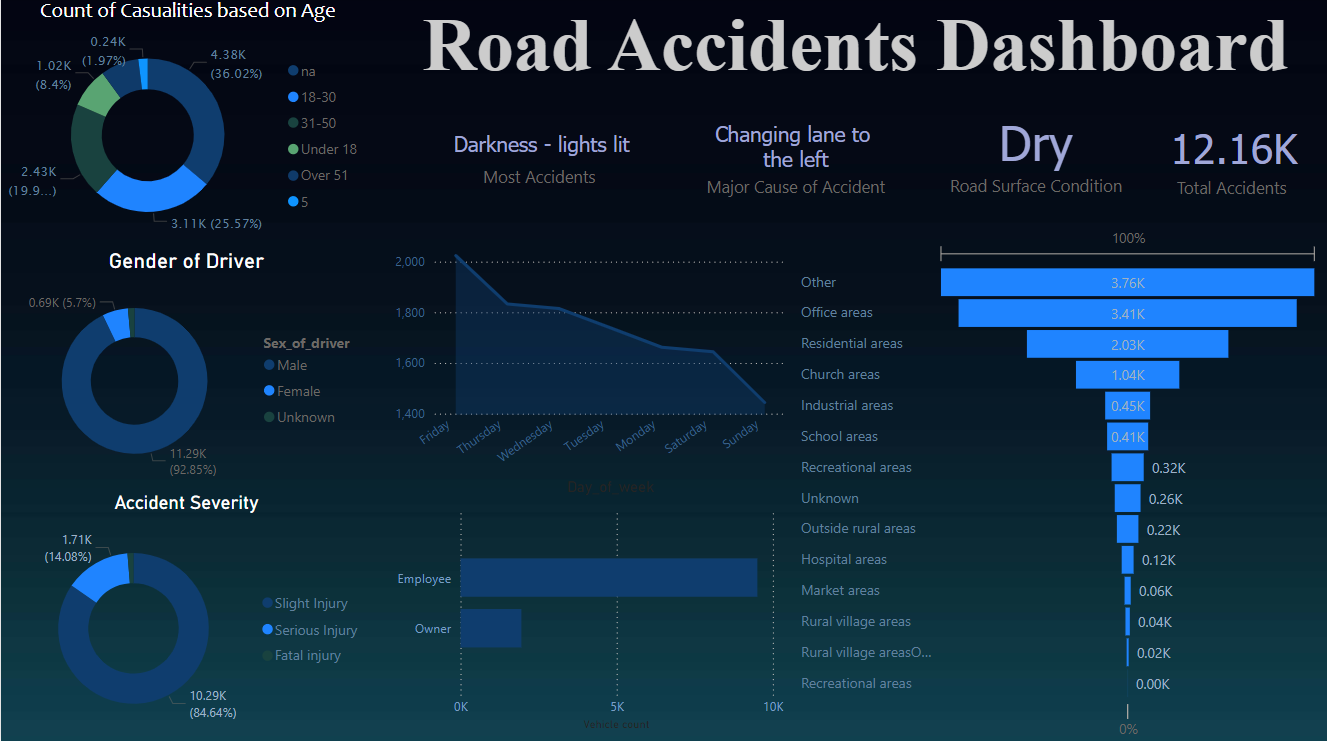

The page's visual inventory and layout, read from the dashboard file:
{"tool":"powerbi","page":{"name":"Page 1","canvas":[1280,720],"ordinal":0},"visuals":[{"type":"donutChart","title":"Count of Casualities based on Age","fields":{"Category":["RTA Dataset.Age_band_of_casualty"],"Y":["CountNonNull(RTA Dataset.Age_band_of_casualty)"]},"box":[2.4,0,355.8,242.4],"z":0},{"type":"stackedAreaChart","title":"Number of Accidents in a Particular Day","fields":{"Category":["RTA Dataset.Day_of_week"],"Y":["CountNonNull(RTA Dataset.Day_of_week)"]},"box":[355.4,216.8,400.7,269],"z":1000},{"type":"donutChart","title":"Gender of Driver","fields":{"Category":["RTA Dataset.Sex_of_driver"],"Y":["CountNonNull(RTA Dataset.Sex_of_driver)"]},"box":[0,242.9,358.1,233.3],"z":2000},{"type":"clusteredBarChart","fields":{"Category":["RTA Dataset.Vehicle_driver_relation"],"Y":["CountNonNull(RTA Dataset.Vehicle_driver_relation)"]},"box":[355.7,485.1,404.2,227.8],"z":3000},{"type":"funnel","title":" ","fields":{"Category":["RTA Dataset.Area_accident_occured"],"Y":["CountNonNull(RTA Dataset.Area_accident_occured)"]},"box":[767.1,216.8,510.5,503.6],"z":4000},{"type":"donutChart","title":"Accident Severity","fields":{"Category":["RTA Dataset.Accident_severity"],"Y":["CountNonNull(RTA Dataset.Accident_severity)"],"Series":["RTA Dataset.Accident_severity"]},"box":[0,477.5,358.1,242.9],"z":5000},{"type":"textbox","box":[355.4,0,891.9,104.3],"z":6000},{"type":"card","fields":{"Values":["Min(RTA Dataset.Road_surface_conditions)"]},"box":[910,93.6,179,112.6],"z":7000},{"type":"card","fields":{"Values":["CountNonNull(RTA Dataset.Time)"]},"box":[1102.6,93.6,175,123.4],"z":8000},{"type":"card","fields":{"Values":["Min(RTA Dataset.Cause_of_accident)"]},"box":[661.8,92.9,210,123.4],"z":9000},{"type":"card","fields":{"Values":["Min(RTA Dataset.Light_conditions)"]},"box":[404.7,92.9,235.4,123.4],"z":10000}]}

Visuals, with their boxes in screenshot pixels (x1, y1, x2, y2), scaled from the page's 1280x720 canvas onto the 1327x741 screenshot:
"Count of Casualities based on Age" donutChart: locate(2, 0, 371, 249)
"Number of Accidents in a Particular Day" stackedAreaChart: locate(368, 223, 784, 500)
"Gender of Driver" donutChart: locate(0, 250, 371, 490)
clusteredBarChart - RTA Dataset.Vehicle_driver_relation x CountNonNull(RTA Dataset.Vehicle_driver_relation): locate(369, 499, 788, 734)
" " funnel: locate(795, 223, 1325, 740)
"Accident Severity" donutChart: locate(0, 491, 371, 740)
textbox: locate(368, 0, 1293, 107)
card - Min(RTA Dataset.Road_surface_conditions): locate(943, 96, 1129, 212)
card - CountNonNull(RTA Dataset.Time): locate(1143, 96, 1325, 223)
card - Min(RTA Dataset.Cause_of_accident): locate(686, 96, 904, 223)
card - Min(RTA Dataset.Light_conditions): locate(420, 96, 664, 223)
